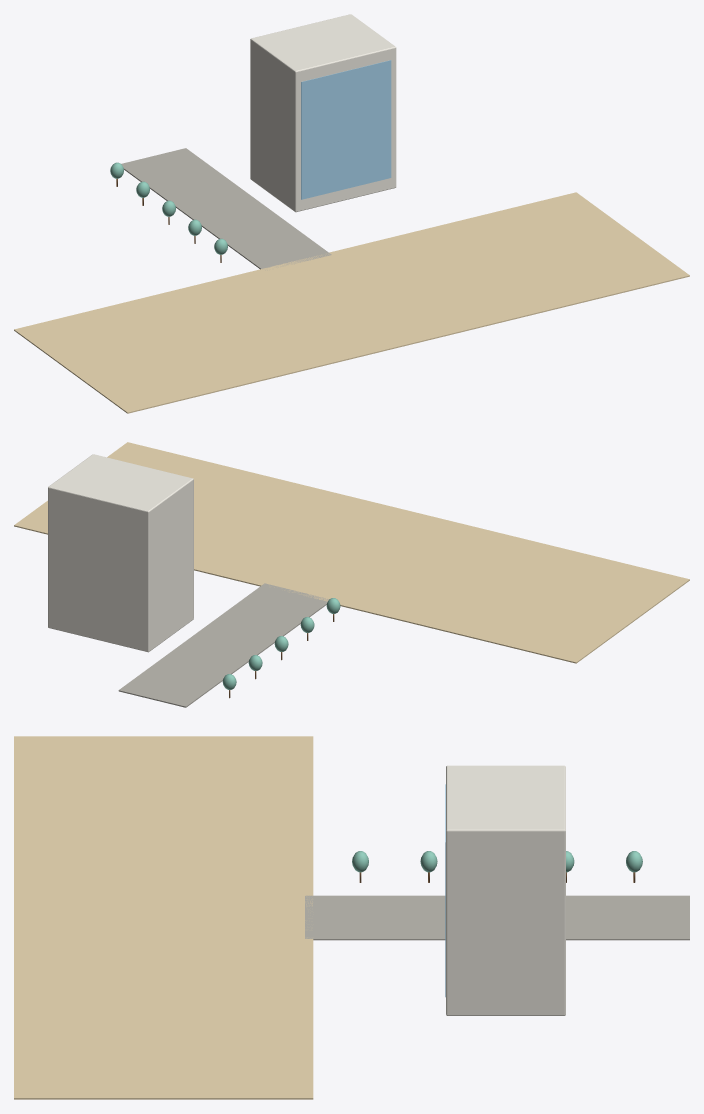
File: HaeundaeBeach_blockout.glb
3 renders of one model, top to bottom at view 1: azimuth 30°, elevation 25°; view 2: azimuth 150°, elevation 25°; view 3: azimuth 270°, elevation 25°, orthographic. The views are drawn at different scales.
Visible parts, largest first — view 1: ENV09_HaeundaeBeach_Sand_L0, ENV09_HaeundaeBeach_Hotel_L0, ENV09_HaeundaeBeach_HotelGlass_L0, ENV09_HaeundaeBeach_Avenue_L0; view 2: ENV09_HaeundaeBeach_Sand_L0, ENV09_HaeundaeBeach_Hotel_L0, ENV09_HaeundaeBeach_Avenue_L0; view 3: ENV09_HaeundaeBeach_Sand_L0, ENV09_HaeundaeBeach_Hotel_L0, ENV09_HaeundaeBeach_Avenue_L0.
Part boxes in pixels (x1=…): ENV09_HaeundaeBeach_Sand_L0: x1=14, y1=192, x2=689, y2=413; ENV09_HaeundaeBeach_Hotel_L0: x1=250, y1=14, x2=396, y2=212; ENV09_HaeundaeBeach_HotelGlass_L0: x1=301, y1=60, x2=391, y2=199; ENV09_HaeundaeBeach_Avenue_L0: x1=121, y1=148, x2=331, y2=270; ENV09_HaeundaeBeach_Sand_L0: x1=14, y1=442, x2=689, y2=663; ENV09_HaeundaeBeach_Hotel_L0: x1=48, y1=454, x2=193, y2=652; ENV09_HaeundaeBeach_Avenue_L0: x1=118, y1=583, x2=328, y2=707; ENV09_HaeundaeBeach_Sand_L0: x1=14, y1=736, x2=313, y2=1099; ENV09_HaeundaeBeach_Hotel_L0: x1=446, y1=765, x2=565, y2=1015; ENV09_HaeundaeBeach_Avenue_L0: x1=305, y1=895, x2=689, y2=940.
Size of the model in its own units: 100 by 24 by 79.
